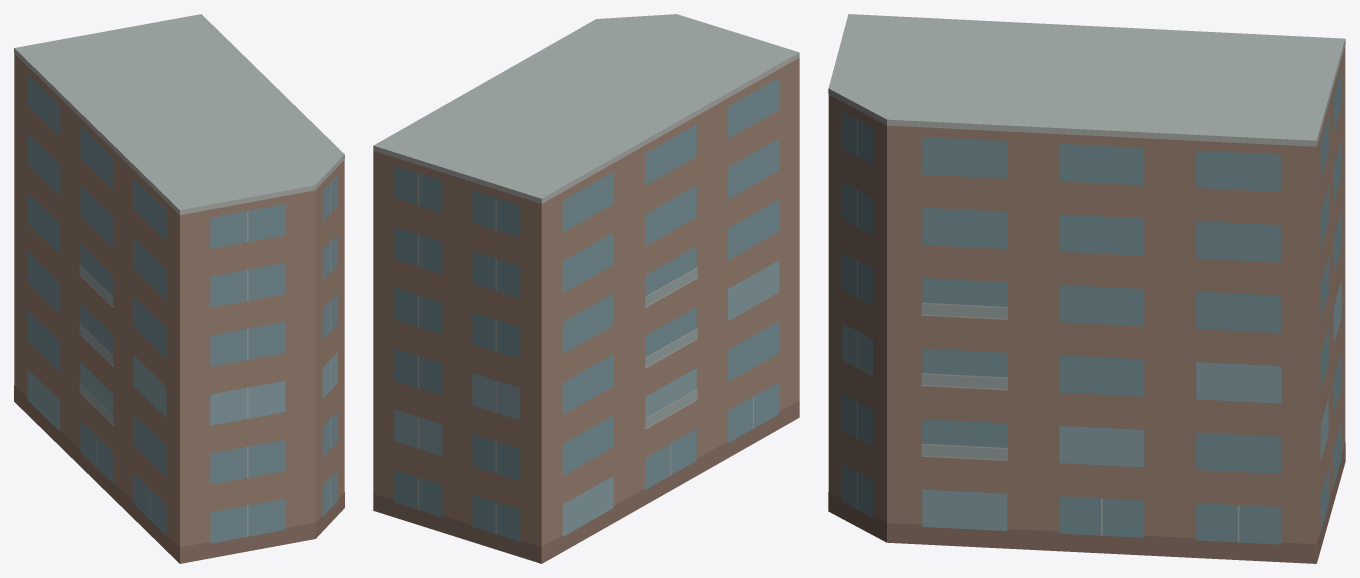
Rendered from survey-upis-32565485.glb.
The picture shows the model from 3 angles, left to right: view 1: azimuth 30°, elevation 25°; view 2: azimuth 150°, elevation 25°; view 3: azimuth 270°, elevation 25°; orthographic projection. The views are drawn at different scales.
Visible parts, largest first — view 1: survey-upis-32565485.tmp; view 2: survey-upis-32565485.tmp; view 3: survey-upis-32565485.tmp.
Part boxes in pixels (x1=…): survey-upis-32565485.tmp: x1=14, y1=14, x2=344, y2=563; survey-upis-32565485.tmp: x1=373, y1=14, x2=799, y2=563; survey-upis-32565485.tmp: x1=828, y1=14, x2=1345, y2=563.
Size of the model in its own units: 11.13 by 17.3 by 19.17.
